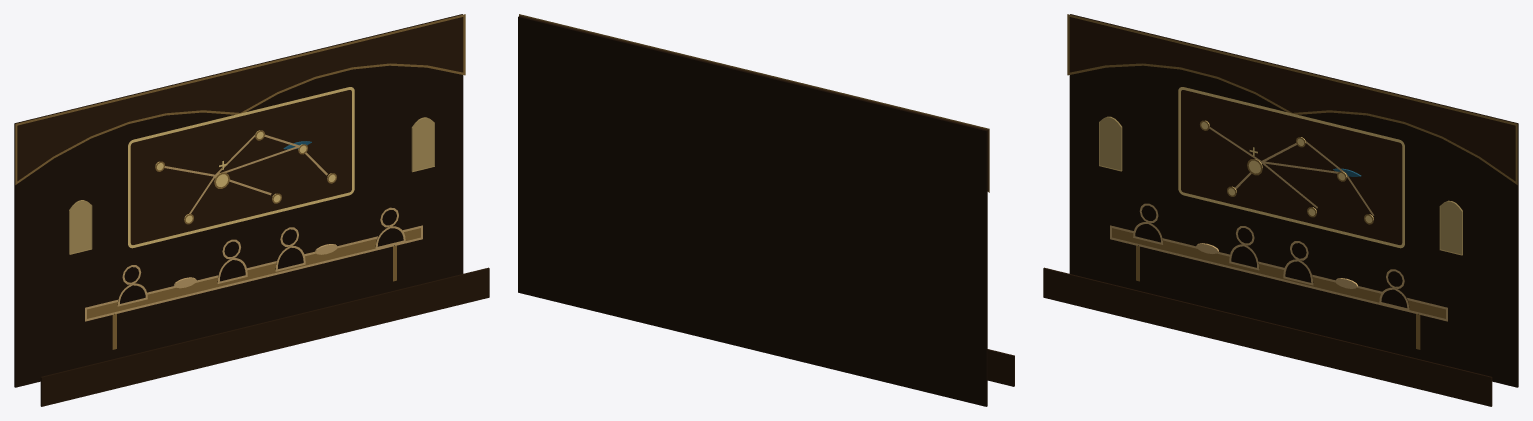
File: loc-sovet-obiteley.glb
The picture shows the model from 3 angles, left to right: view 1: azimuth 30°, elevation 25°; view 2: azimuth 150°, elevation 25°; view 3: azimuth 330°, elevation 25°; orthographic projection. The views are drawn at different scales.
Visible parts, largest first — view 1: loc-sovet-obiteley; view 2: loc-sovet-obiteley; view 3: loc-sovet-obiteley.
Part boxes in pixels (bbox=[...]): loc-sovet-obiteley: bbox=[14, 14, 489, 406]; loc-sovet-obiteley: bbox=[518, 14, 1014, 406]; loc-sovet-obiteley: bbox=[1043, 14, 1518, 406].
Bounding box in the file's own units: 5.36 × 3.01 × 0.56.
